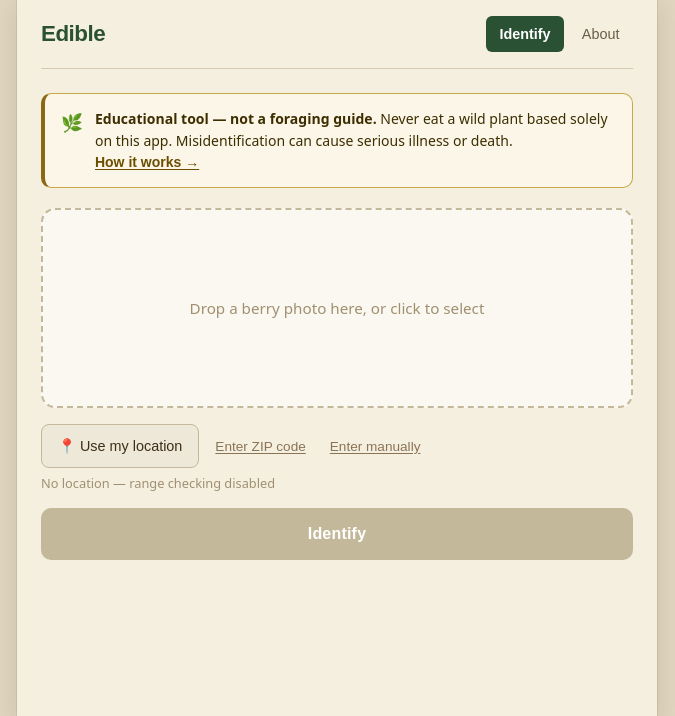
Test: navigation › navigates to the About page
The width and height of the screenshot is (675, 716).
Step 1. Click the button "About" → coordinates (601, 34), box [568,16,633,52]
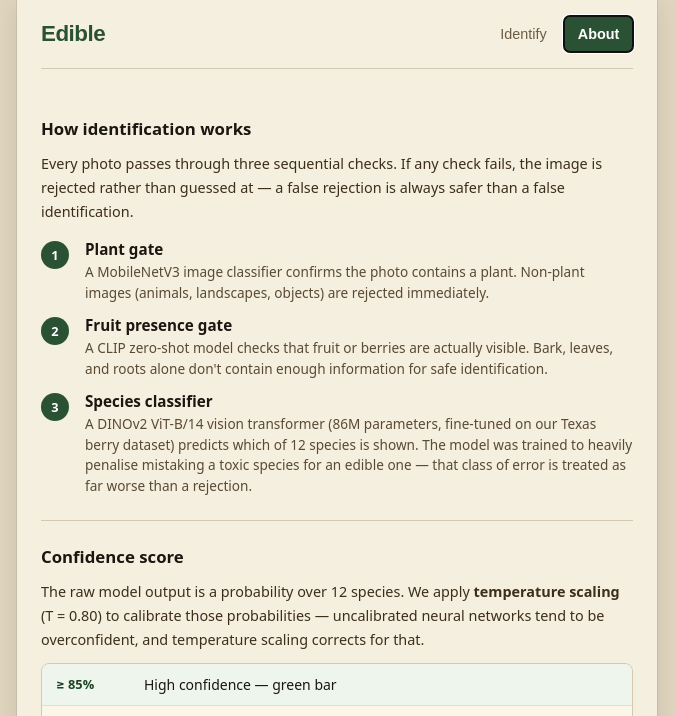
Now the heading "How identification works" is shown, box [41,117,251,140]
